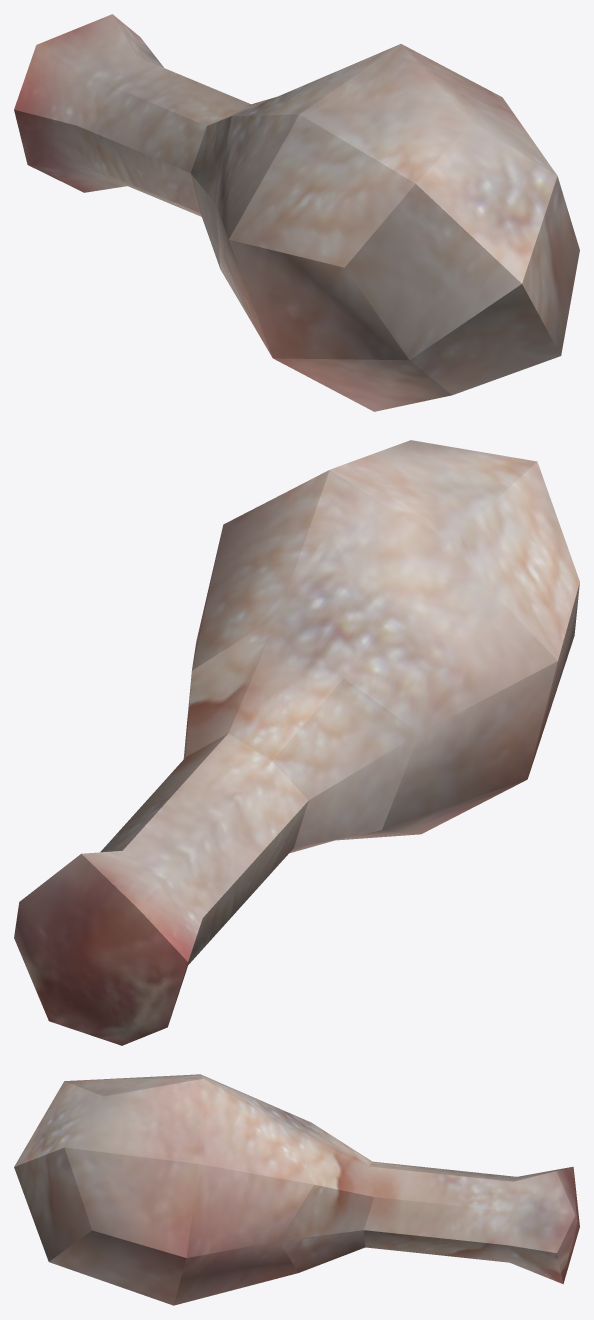
File: ChickenLeg_single.fbx
The picture shows the model from 3 angles, top to bottom: view 1: azimuth 30°, elevation 25°; view 2: azimuth 150°, elevation 25°; view 3: azimuth 270°, elevation 25°; orthographic projection. The views are drawn at different scales.
Parts seen in each view (by area): view 1: ChickenLeg; view 2: ChickenLeg; view 3: ChickenLeg.
Part boxes in pixels (x1=…): ChickenLeg: x1=14, y1=14, x2=579, y2=411; ChickenLeg: x1=14, y1=440, x2=579, y2=1045; ChickenLeg: x1=14, y1=1074, x2=579, y2=1305.
Size of the model in its own units: 0.1348 by 0.1344 by 0.2986.
